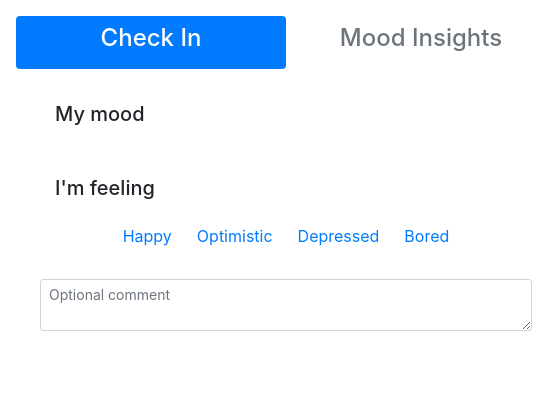
Test: App - as a user › when I load the page › I see a button to check in only after I select a feeling
expect the text "Submit" is not shown: met
What coordinates should you click on to do the following:
click the text "Happy"
I would click on:
 (147, 235)
Its box is [123,224,172,246].
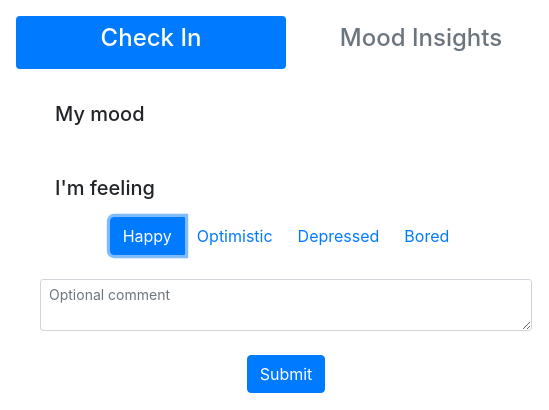
expect the button "Submit" is shown: met, box [247,355,325,393]
